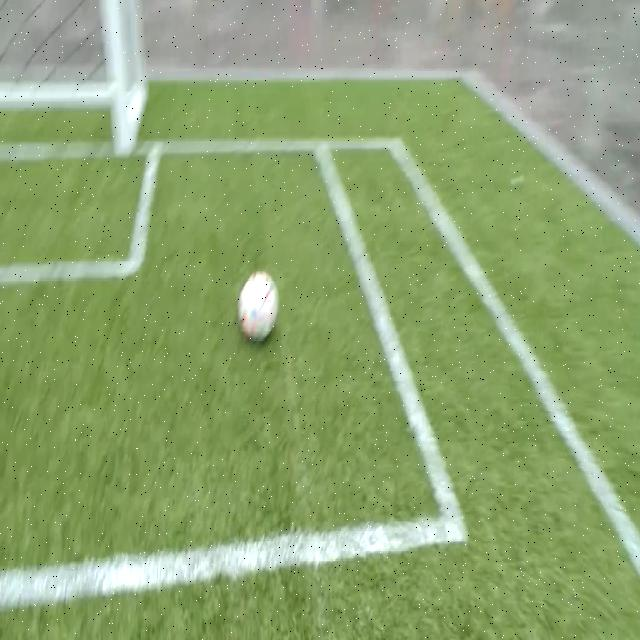ball: (238, 271, 279, 341)
goalpost: (112, 106, 136, 156)
